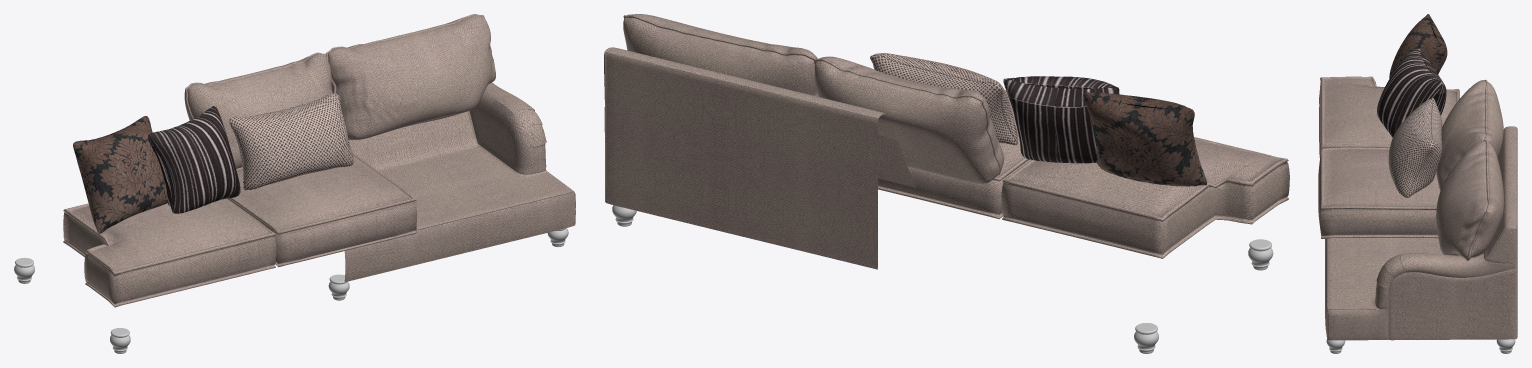
Rendered from sofa-4.gltf.
3 renders of one model, left to right at view 1: azimuth 30°, elevation 25°; view 2: azimuth 150°, elevation 25°; view 3: azimuth 270°, elevation 25°, orthographic. The views are drawn at different scales.
Parts seen in each view (by area): view 1: 737 39 02 W0.007, 737 39 02 W0.011, Cube.003, 737 39 02 W0.013, Plane.002, Plane, Plane.001, Cube.002, Fermoy Sofa; view 2: 737 39 02 W0.007, 737 39 02 W0.011, Cube.002, Plane, Cube.003, Plane.001, 737 39 02 W0.013, Plane.002, Fermoy Sofa; view 3: 737 39 02 W0.007, 737 39 02 W0.013, Cube.003, 737 39 02 W0.011, Plane.002, Cube.002, Plane.001, Plane, Fermoy Sofa.
Part boxes in pixels (x1,y1,x2,y2): 737 39 02 W0.007: [344, 82, 575, 282]; 737 39 02 W0.011: [63, 198, 276, 307]; Cube.003: [325, 14, 495, 139]; 737 39 02 W0.013: [227, 151, 416, 267]; Plane.002: [229, 93, 353, 190]; Plane: [73, 116, 167, 233]; Plane.001: [148, 105, 240, 213]; Cube.002: [184, 52, 332, 168]; Fermoy Sofa: [14, 228, 568, 353]; 737 39 02 W0.007: [604, 47, 915, 269]; 737 39 02 W0.011: [1001, 137, 1289, 258]; Cube.002: [814, 56, 1004, 183]; Plane: [1083, 92, 1206, 186]; Cube.003: [623, 14, 818, 96]; Plane.001: [1003, 76, 1119, 163]; 737 39 02 W0.013: [878, 90, 1030, 219]; Plane.002: [870, 53, 1017, 145]; Fermoy Sofa: [612, 205, 1273, 353]; 737 39 02 W0.007: [1325, 126, 1517, 340]; 737 39 02 W0.013: [1318, 147, 1440, 238]; Cube.003: [1436, 140, 1503, 260]; 737 39 02 W0.011: [1319, 76, 1459, 157]; Plane.002: [1388, 98, 1442, 197]; Cube.002: [1436, 79, 1503, 190]; Plane.001: [1377, 47, 1446, 137]; Plane: [1389, 14, 1447, 78]; Fermoy Sofa: [1326, 339, 1515, 353].
Bounding box in the file's own units: 2.79 × 0.9709 × 1.16.
